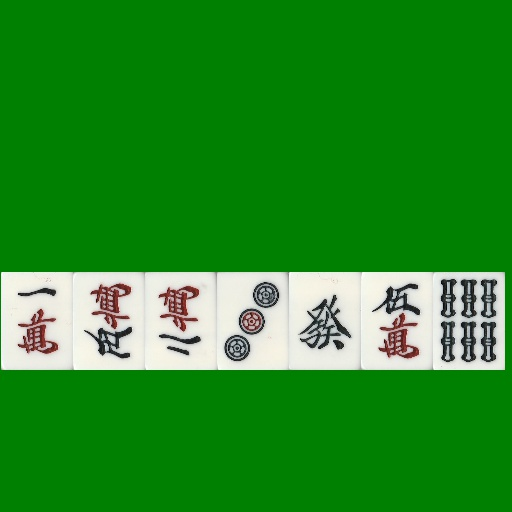1m: (1, 272, 73, 370)
2m: (145, 272, 217, 370)
3p: (217, 272, 289, 370)
5m: (73, 272, 145, 370), (361, 272, 433, 370)
6s: (433, 272, 505, 370)
hatsu: (289, 272, 361, 370)
